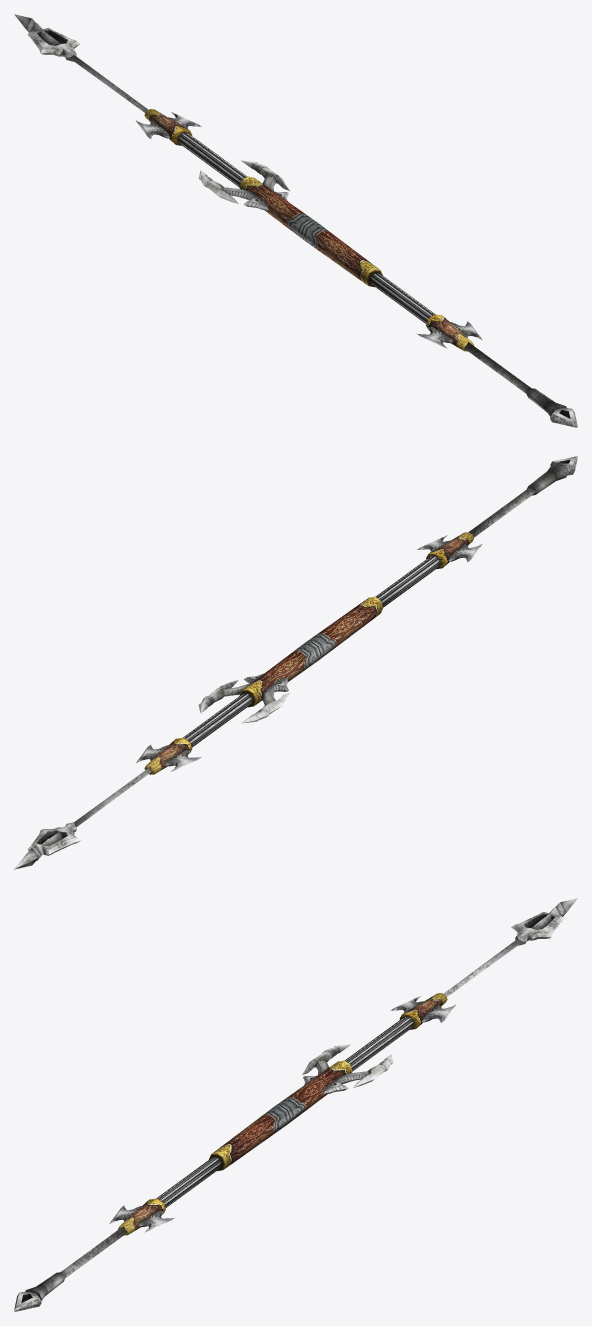
The model's file is spear_predator1_predator1.glb.
The picture shows the model from 3 angles, top to bottom: view 1: azimuth 30°, elevation 25°; view 2: azimuth 150°, elevation 25°; view 3: azimuth 330°, elevation 25°; orthographic projection.
Size of the model in its own units: 0.1801 by 0.0525 by 2.64.
1 material, 1 textured.
